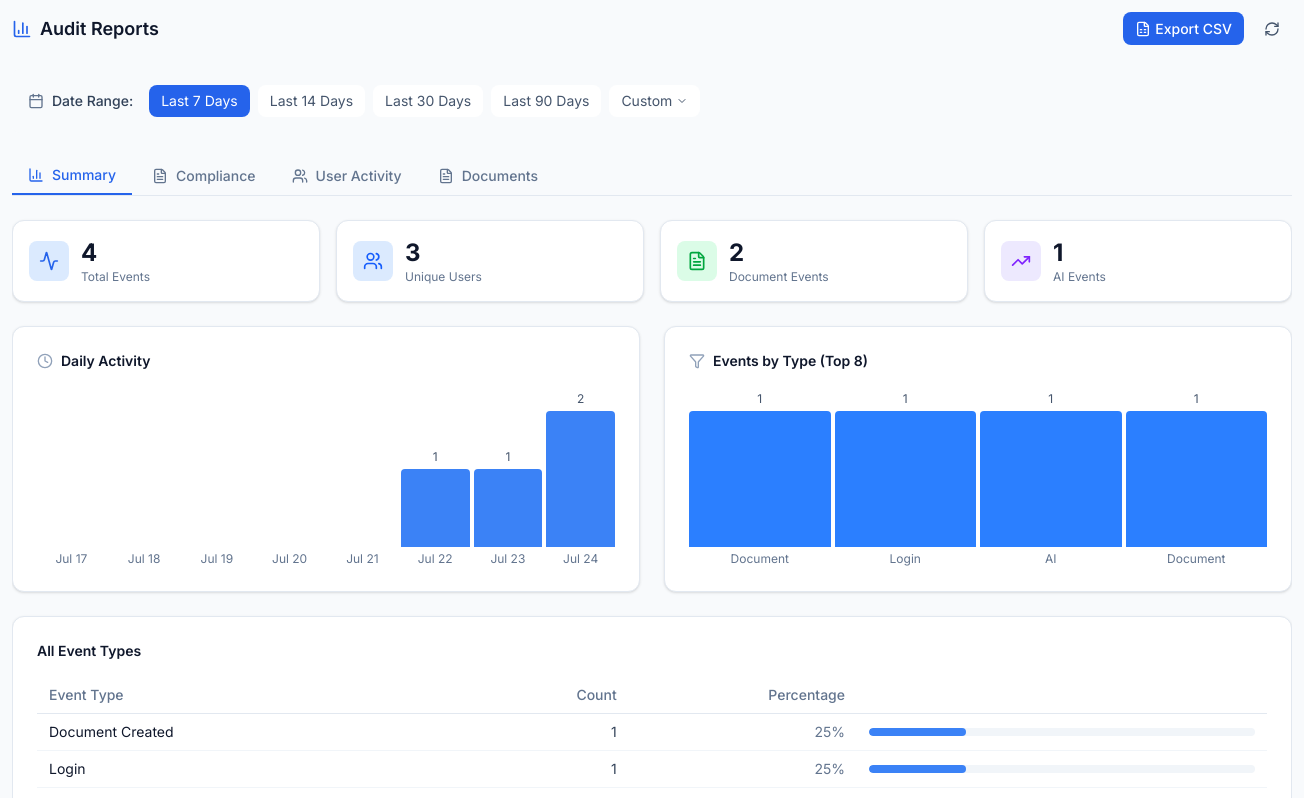
AuditReportGenerator › Report Tabs › should switch to document report
What coordinates should you click on to do the following:
click the button "Documents"
I would click on:
 (488, 176)
Its box is [422,157,554,195].
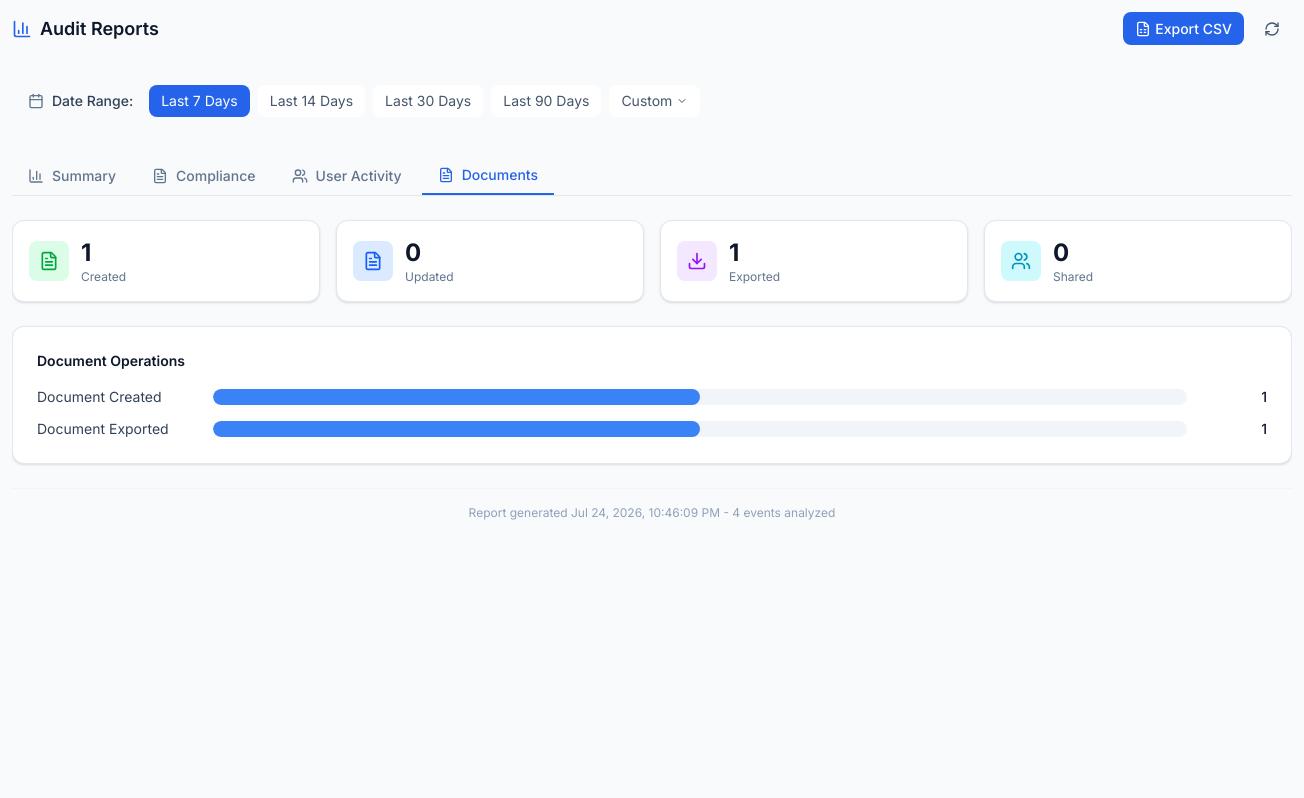
Check: the heading "Document Operations" is shown, box [37,352,185,369]
